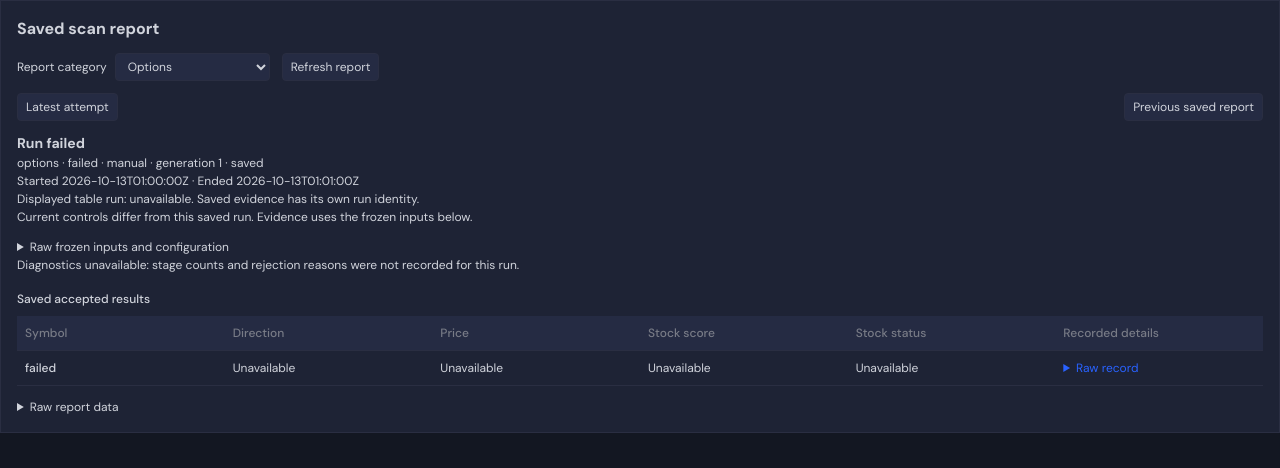
Test: failed attempt and previous evidence remain distinct, missing diagnostics never means zero
The image size is (1280, 468).
Expected: the heading "Run failed" is shown, x1=17 y1=134 x2=85 y2=152
Expected: the text "Diagnostics unavailable" is shown, x1=17 y1=257 x2=519 y2=273
Click the button "Previous saved report". click: {"x": 1194, "y": 107}
box: x1=1124 y1=93 x2=1263 y2=121
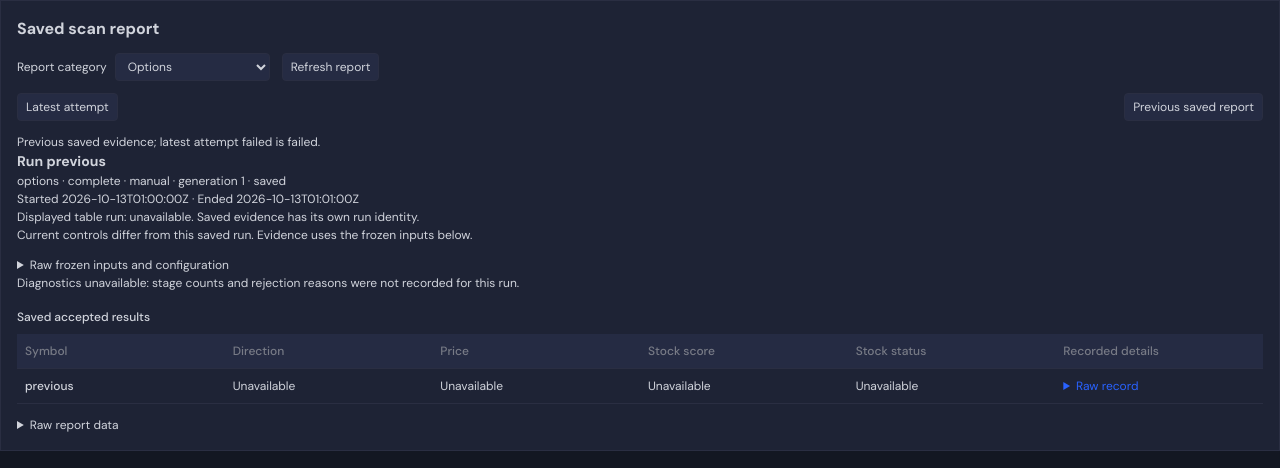
Expected: the text "Current controls differ" is shown, x1=17 y1=227 x2=472 y2=243
Expected: the heading "Run previous" is shown, x1=17 y1=152 x2=106 y2=170
